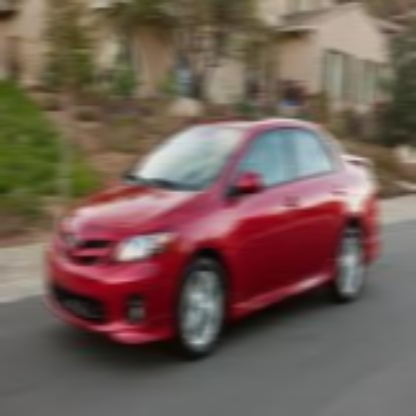Vehicle: (44, 104, 395, 385)
